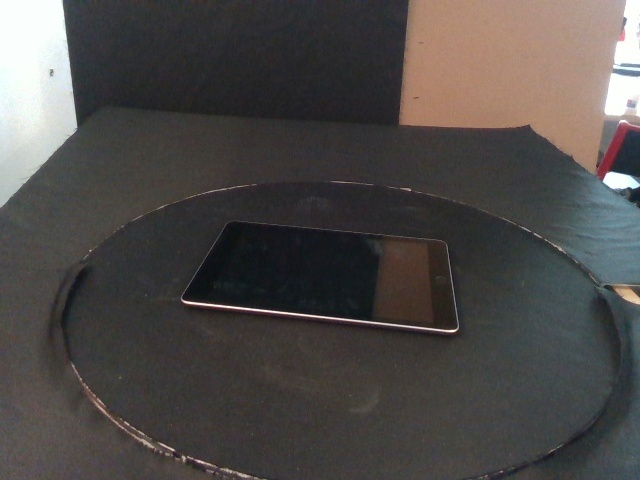laptop: (179, 220, 460, 339)
